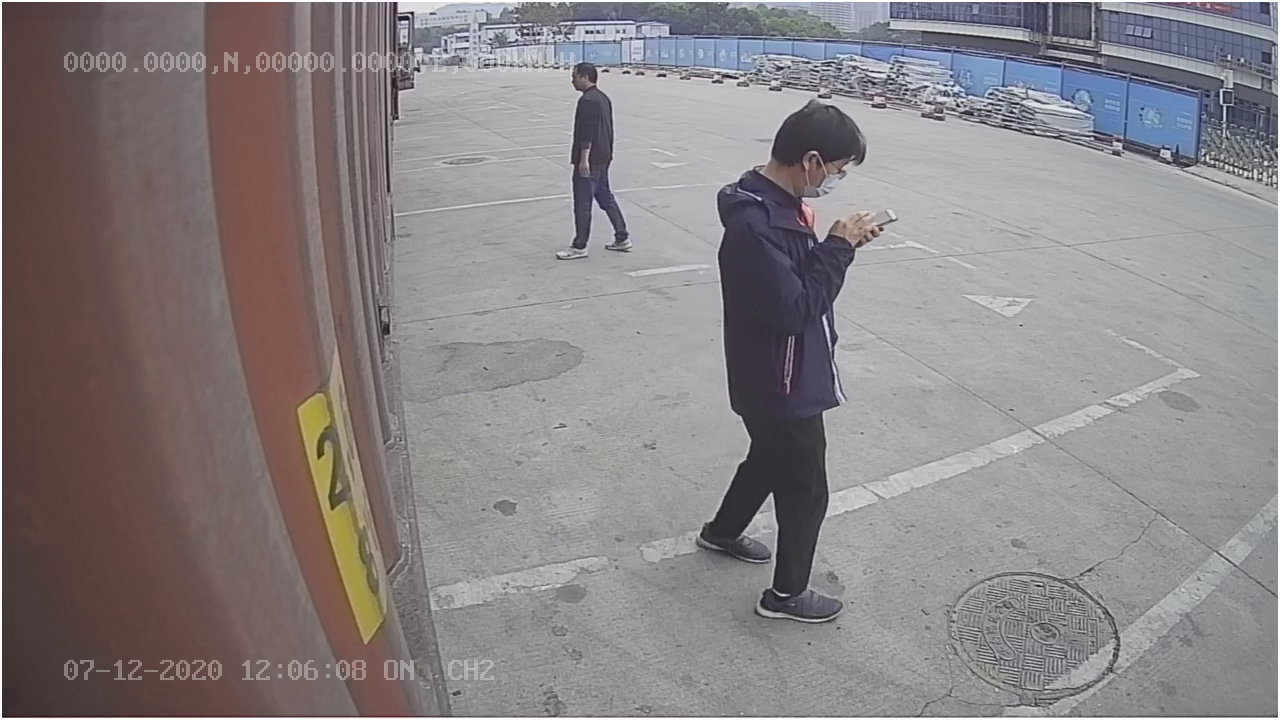person: (697, 91, 886, 628)
